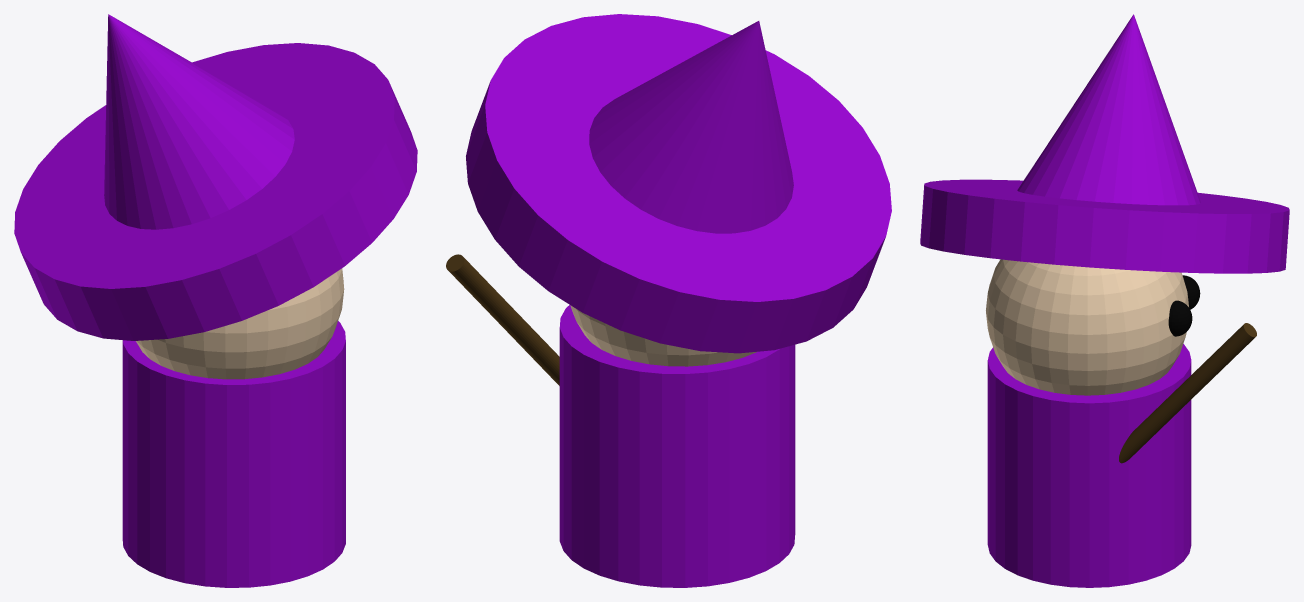
The model's file is wizord_purp.glb.
3 views of the same model, side by side, from view 1: azimuth 30°, elevation 25°; view 2: azimuth 150°, elevation 25°; view 3: azimuth 270°, elevation 25° (orthographic). The views are drawn at different scales.
Visible parts, largest first — view 1: Cylinder.001, Cylinder, Cone, Sphere; view 2: Cylinder.001, Cylinder, Cone, Sphere, Cylinder.002; view 3: Cylinder, Cylinder.001, Sphere, Cone, Cylinder.002, Sphere.002.
Part boxes in pixels (x1,y1,x2,y2): Cylinder.001: (14, 43, 417, 340); Cylinder: (122, 321, 345, 587); Cone: (104, 14, 294, 229); Sphere: (136, 268, 344, 379); Cylinder.001: (466, 14, 891, 353); Cylinder: (559, 305, 795, 587); Cone: (589, 21, 793, 233); Sphere: (570, 305, 756, 366); Cylinder.002: (446, 254, 559, 385); Cylinder: (987, 344, 1191, 587); Cylinder.001: (920, 179, 1289, 273); Sphere: (986, 259, 1188, 395); Cone: (1017, 14, 1200, 205); Cylinder.002: (1119, 323, 1256, 463); Sphere.002: (1168, 300, 1192, 336).
Bounding box in the file's own units: 3.57 × 5.26 × 3.63.
